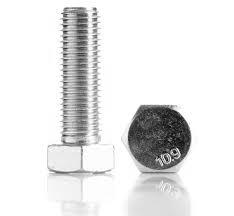screw: (122, 104, 193, 173)
